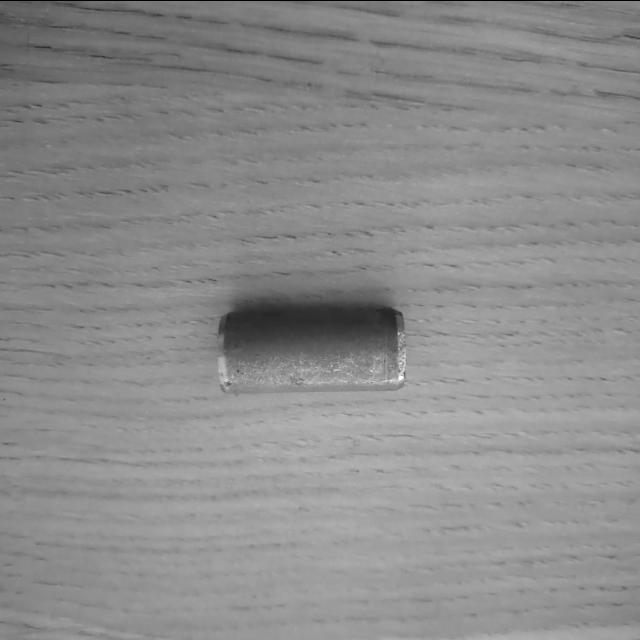Broken: (213, 306, 409, 396)
